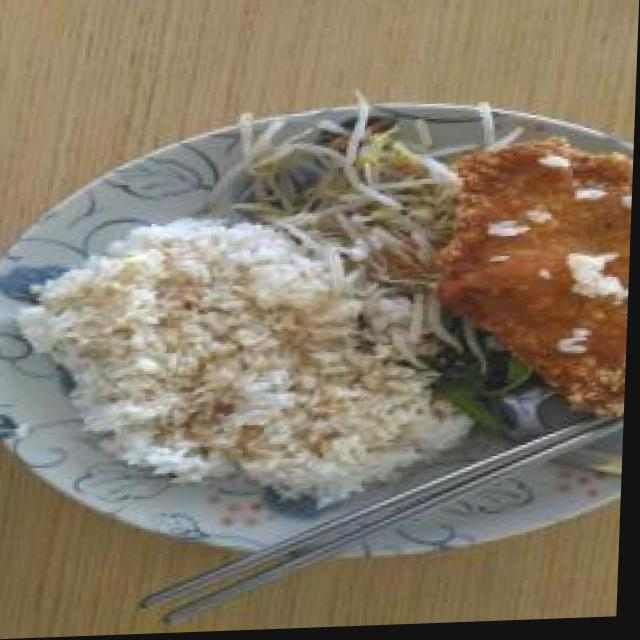fried_chicken: (463, 148, 635, 401)
mung_bean_sprouts: (276, 152, 453, 245)
rice: (122, 276, 397, 454)
